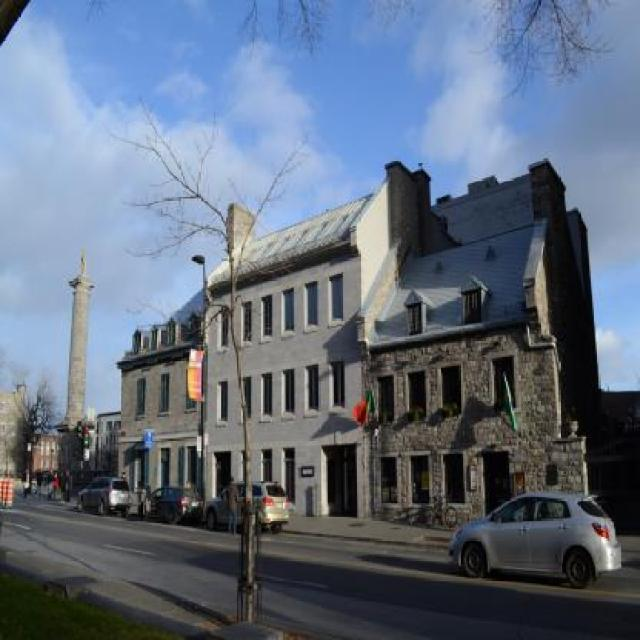Car: (448, 483, 623, 588), (202, 476, 288, 536), (138, 486, 202, 526), (77, 476, 132, 516), (30, 476, 44, 490)
